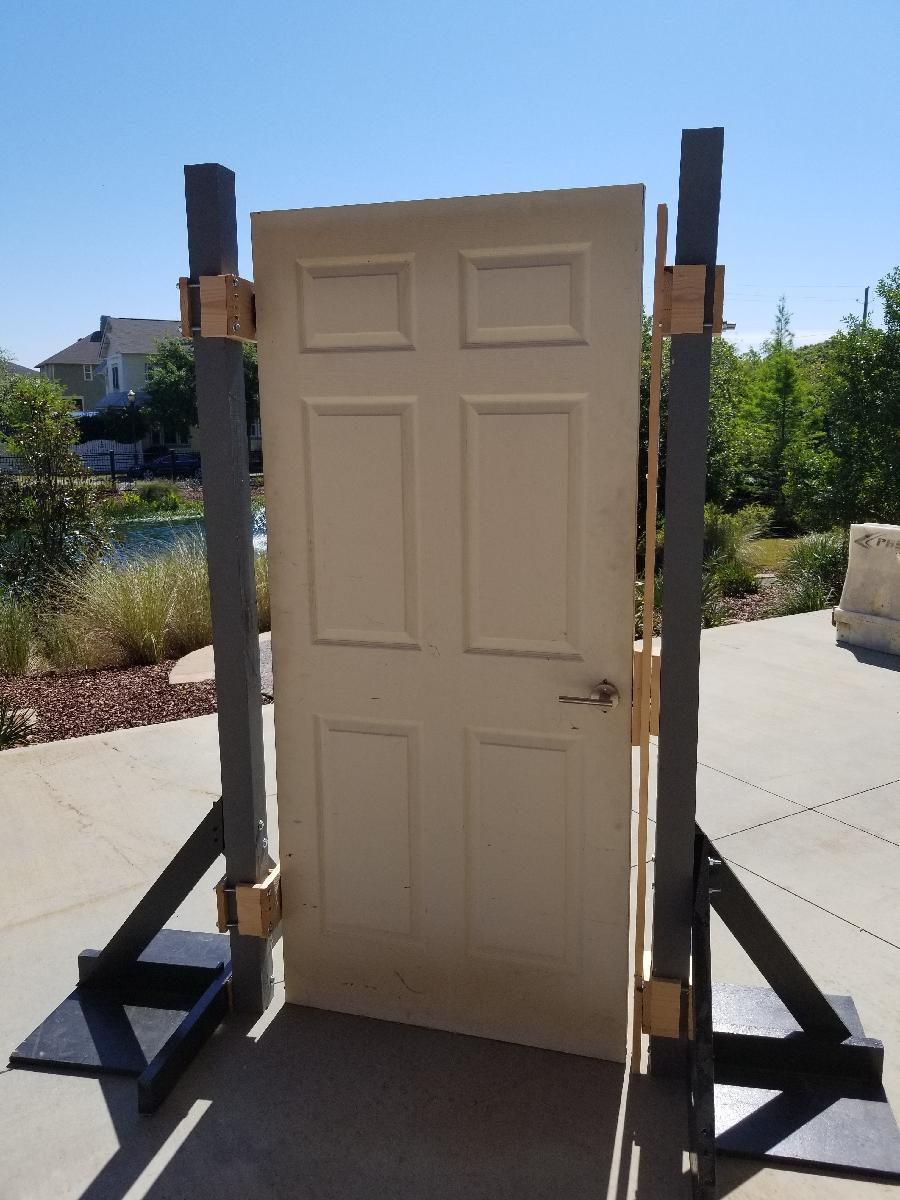door: (254, 180, 650, 1054)
handle: (552, 676, 624, 718)
